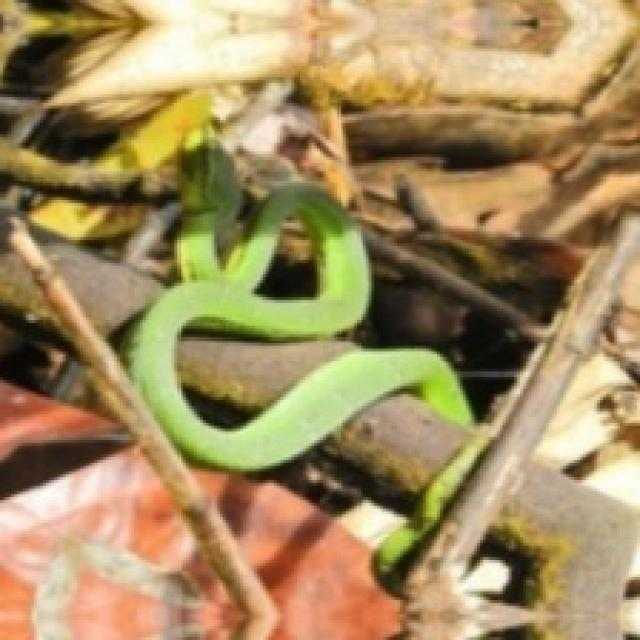north ph temple pitviper: (126, 183, 469, 469)
